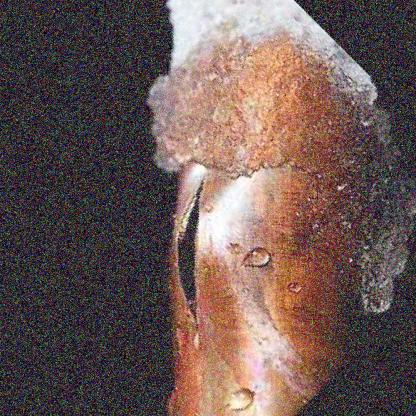burst: (136, 157, 236, 355)
